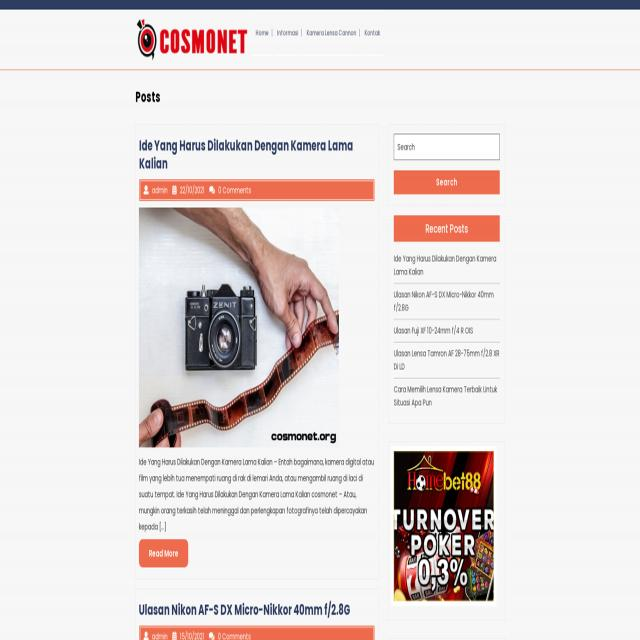button: (139, 202, 339, 454), (394, 451, 494, 600), (134, 16, 250, 63), (394, 170, 499, 194), (139, 539, 188, 567)
field: (394, 134, 499, 160)
